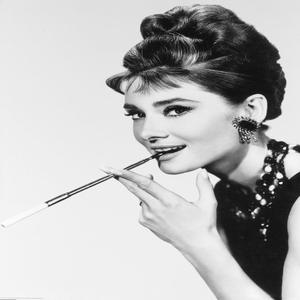cigarette: (1, 190, 75, 232)
